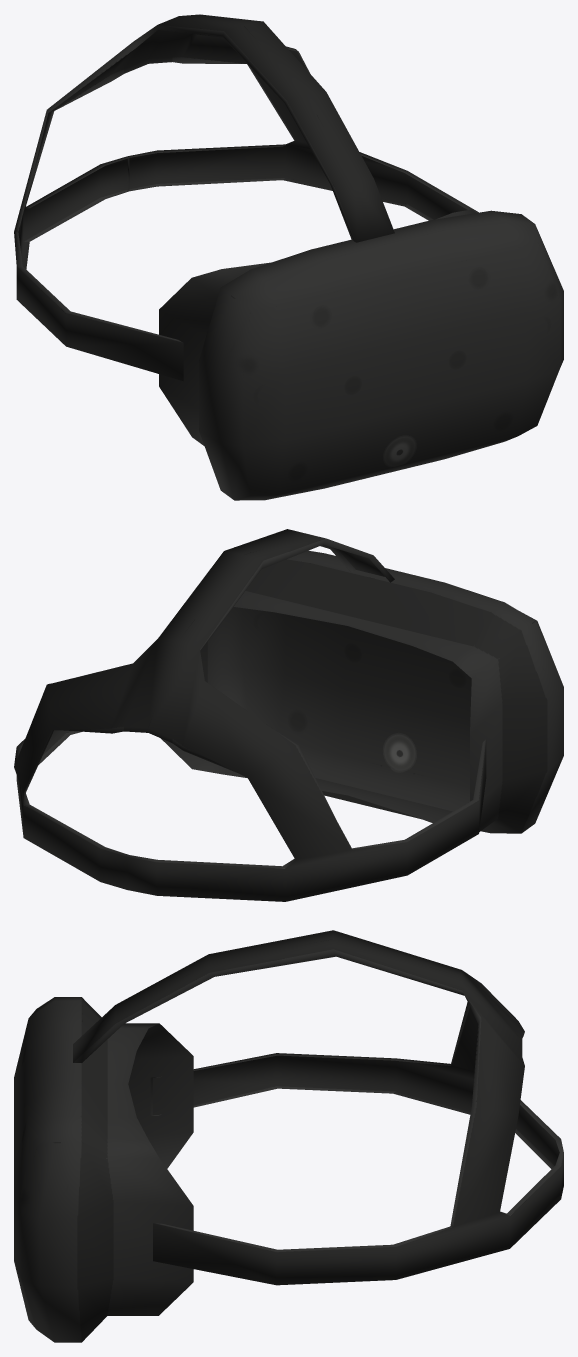
The model's file is OculosVive.fbx.
3 renders of one model, top to bottom at view 1: azimuth 30°, elevation 25°; view 2: azimuth 150°, elevation 25°; view 3: azimuth 270°, elevation 25°, orthographic.
Visible parts, largest first — view 1: Cube.001; view 2: Cube.001; view 3: Cube.001.
Boxes of the visible parts, x1,y1,x2,y2 form: Cube.001: (14, 14, 563, 500); Cube.001: (14, 529, 563, 901); Cube.001: (14, 930, 563, 1342).
Size of the model in its own units: 48.71 by 38.87 by 56.83.
